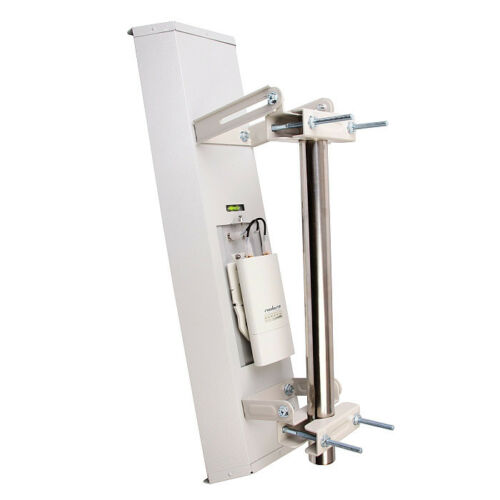sa: (111, 5, 349, 495)
